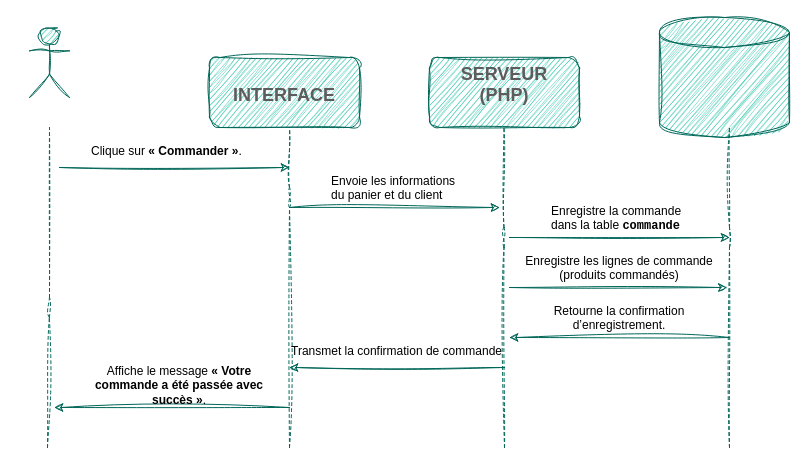
Some shapes in this 807 by 466 pixel diagram are drawn without their labels. The box of each missing label's shape, as (x1, y1, x2, y2) in pixels:
BASE DE DONNEES (MYSQL): (658, 16, 790, 138)
CLIENT: (28, 26, 70, 98)
